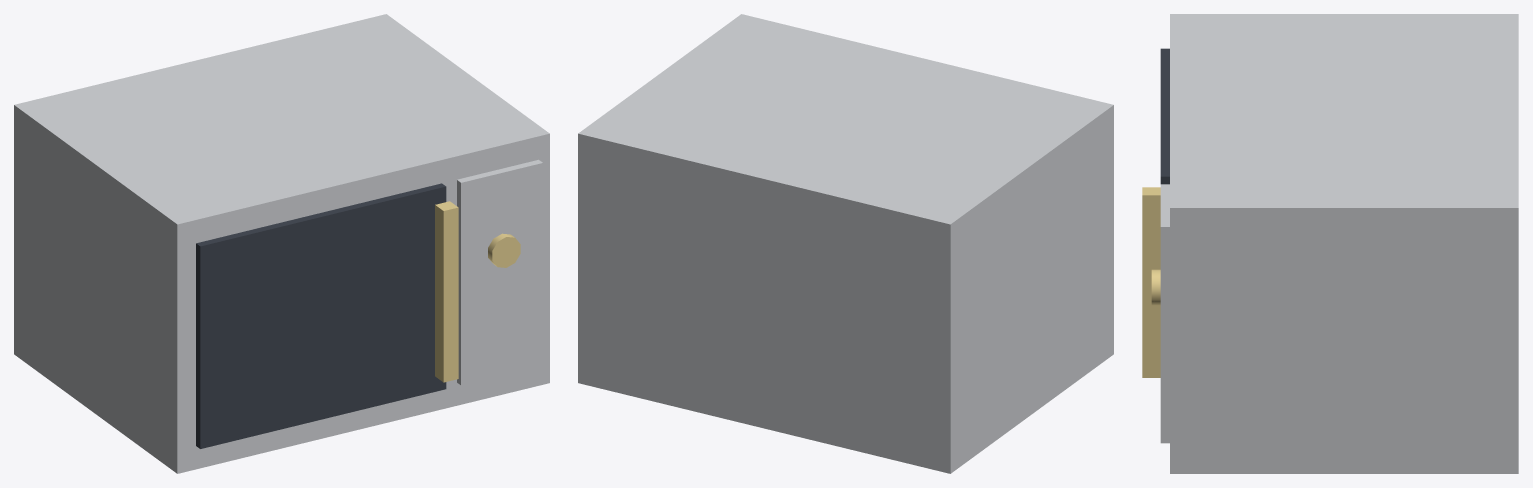
Rendered from bb_set_microwave.fbx.
3 renders of one model, left to right at view 1: azimuth 30°, elevation 25°; view 2: azimuth 150°, elevation 25°; view 3: azimuth 270°, elevation 25°, orthographic. The views are drawn at different scales.
Visible parts, largest first — view 1: bb_set_microwave; view 2: bb_set_microwave; view 3: bb_set_microwave.
Part boxes in pixels (x1,y1,x2,y2): bb_set_microwave: (14,14,549,473); bb_set_microwave: (578,14,1113,473); bb_set_microwave: (1142,14,1518,473).
Bounding box in the file's own units: 0.5 × 0.32 × 0.41.
